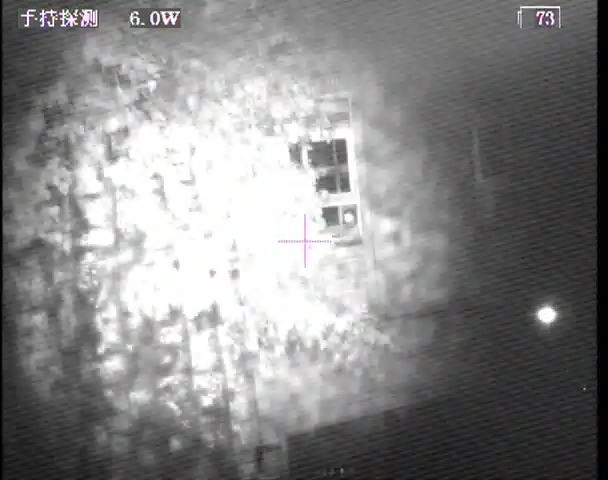my: (343, 208, 357, 228)
